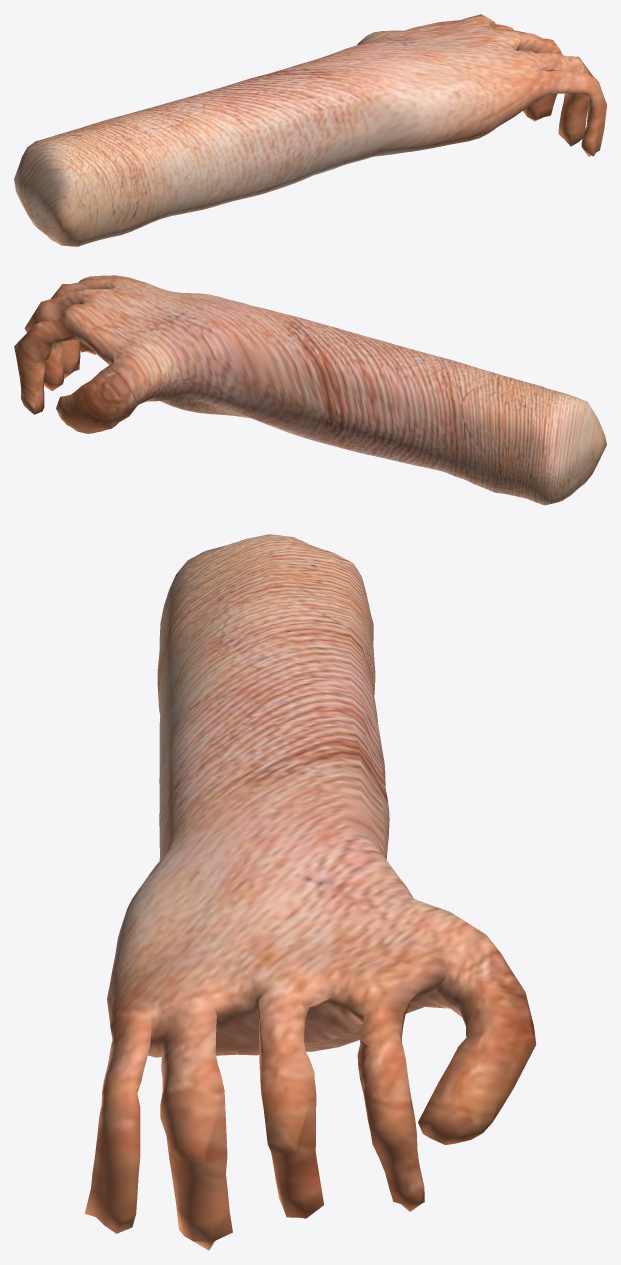
Rendered from geo_Hhånd_lukket.glb.
The picture shows the model from 3 angles, top to bottom: view 1: azimuth 30°, elevation 25°; view 2: azimuth 150°, elevation 25°; view 3: azimuth 270°, elevation 25°; orthographic projection. The views are drawn at different scales.
Visible parts, largest first — view 1: geo_Hhånd_lukket; view 2: geo_Hhånd_lukket; view 3: geo_Hhånd_lukket.
Part boxes in pixels (<box>): geo_Hhånd_lukket: <box>14,14,606,246</box>; geo_Hhånd_lukket: <box>14,275,606,505</box>; geo_Hhånd_lukket: <box>84,534,536,1250</box>.
Bounding box in the file's own units: 3.82 × 0.8188 × 1.37.
1 material, 1 textured.
